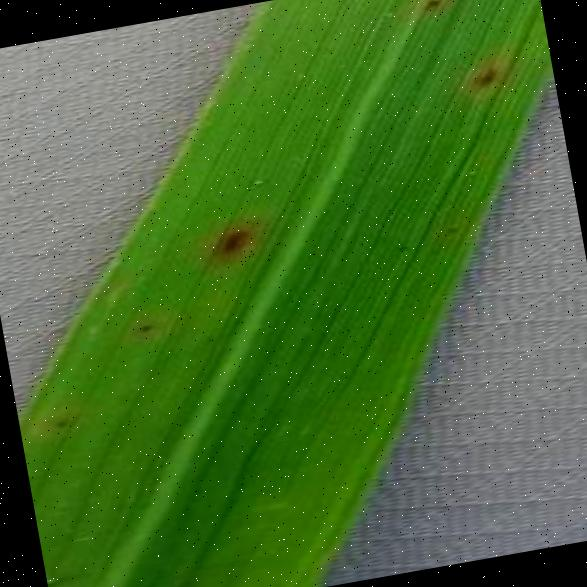Brown_Spot: (189, 204, 268, 272), (451, 51, 510, 98), (238, 165, 271, 193), (127, 314, 160, 340), (387, 232, 416, 260), (410, 0, 450, 19), (438, 217, 463, 244), (46, 411, 70, 434)
